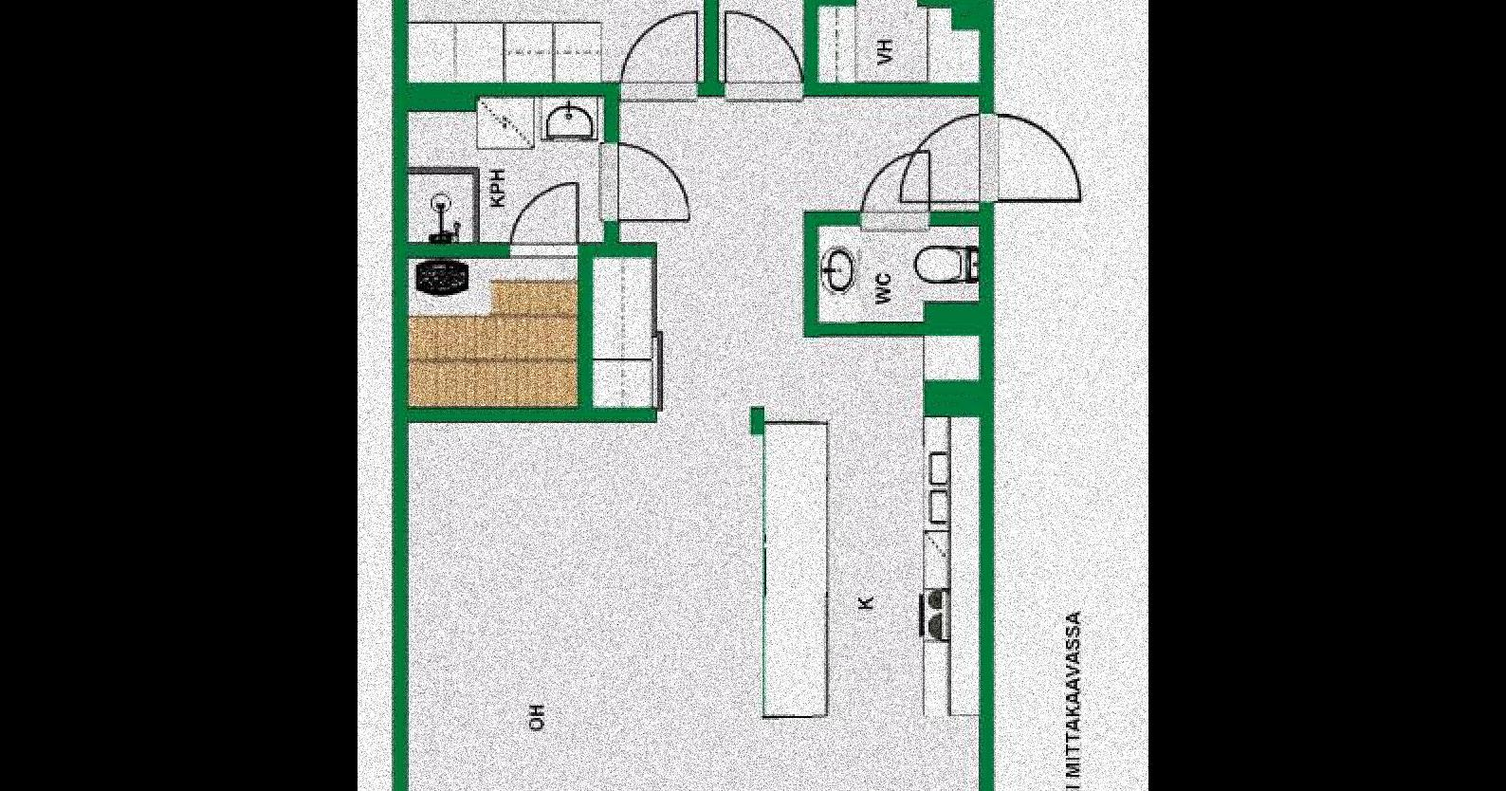door: (891, 113, 1083, 206), (719, 0, 806, 110), (617, 5, 704, 112), (596, 139, 689, 228), (859, 139, 935, 234), (508, 178, 589, 264)
zone: (405, 420, 984, 791), (593, 87, 975, 414), (406, 250, 649, 407), (408, 93, 601, 248), (410, 0, 703, 90)
